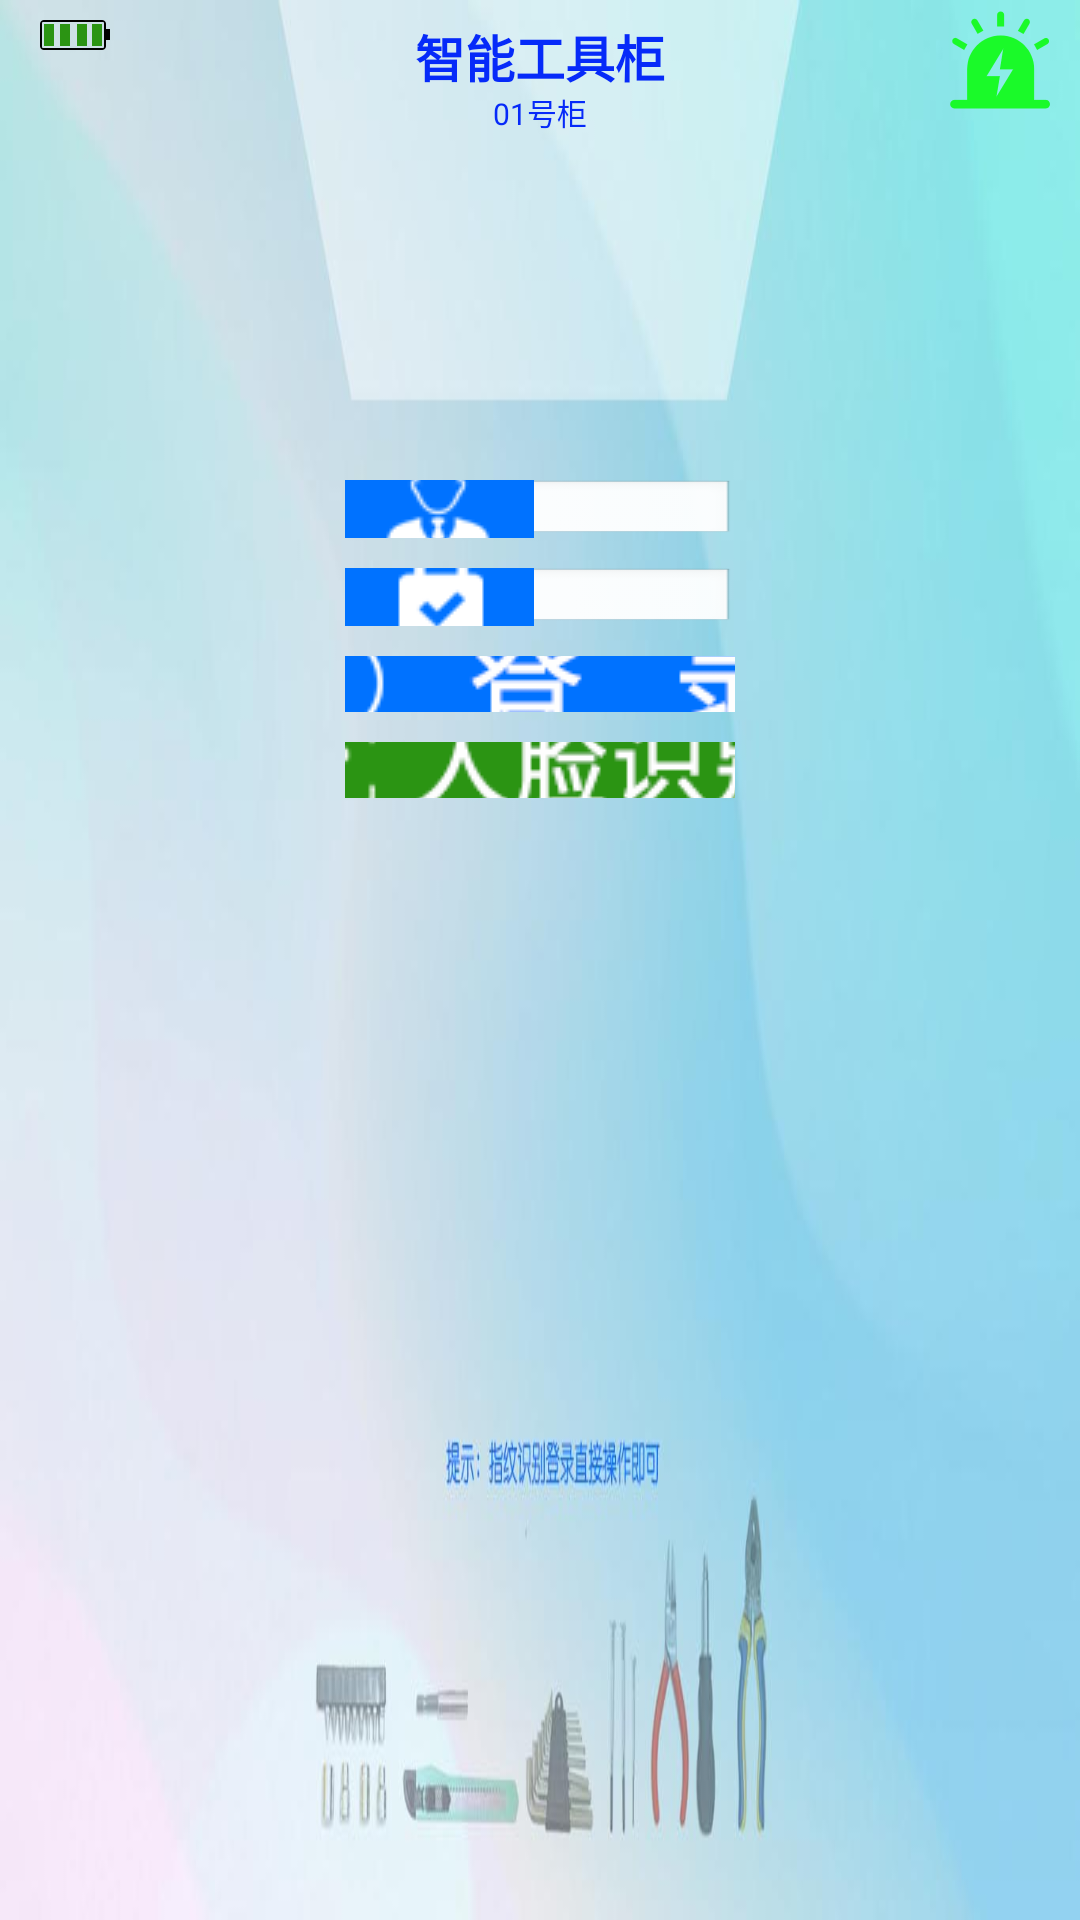

Icon click points for this 1080 x 1920 phone screenshot, format (x,y):
dianchi: (75,35)
